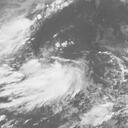cyclone: (32, 56, 85, 103)
